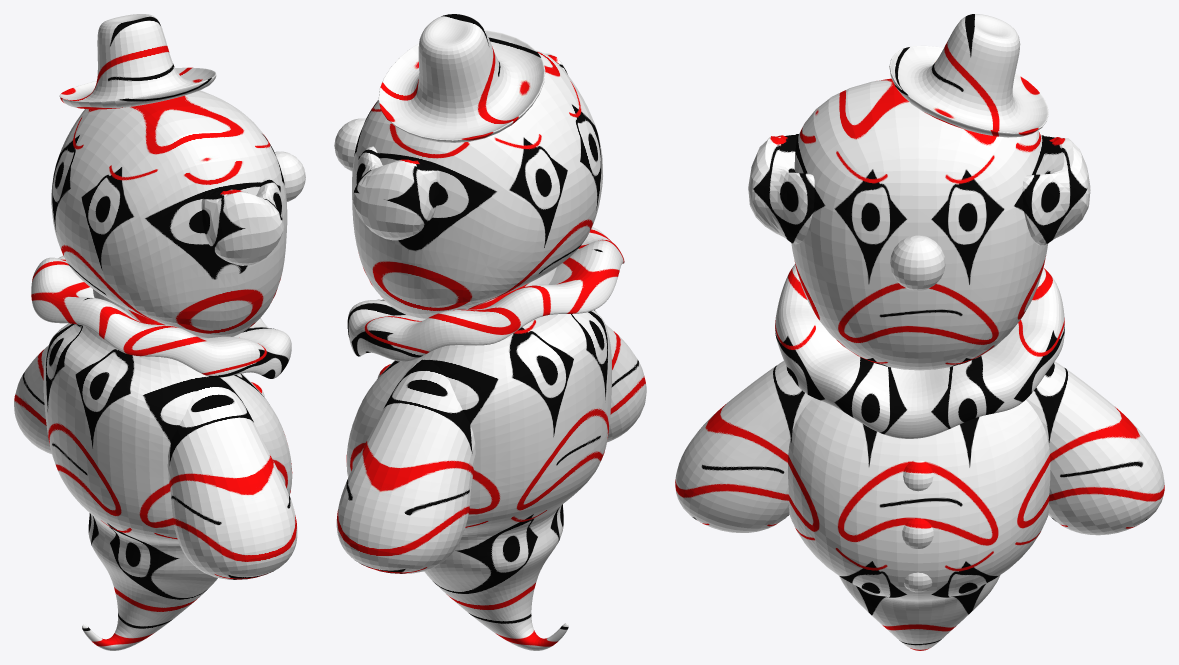
Rendered from clown.fbx.
3 views of the same model, side by side, from view 1: azimuth 30°, elevation 25°; view 2: azimuth 150°, elevation 25°; view 3: azimuth 270°, elevation 25° (orthographic). The views are drawn at different scales.
Visible parts, largest first — view 1: clown_1; view 2: clown_1; view 3: clown_1.
Part boxes in pixels (x1,y1,x2,y2): clown_1: [14, 14, 305, 650]; clown_1: [334, 14, 646, 650]; clown_1: [675, 14, 1164, 650].
Bounding box in the file's own units: 74.22 × 168 × 115.
Materials: 1 (1 with a texture image).
